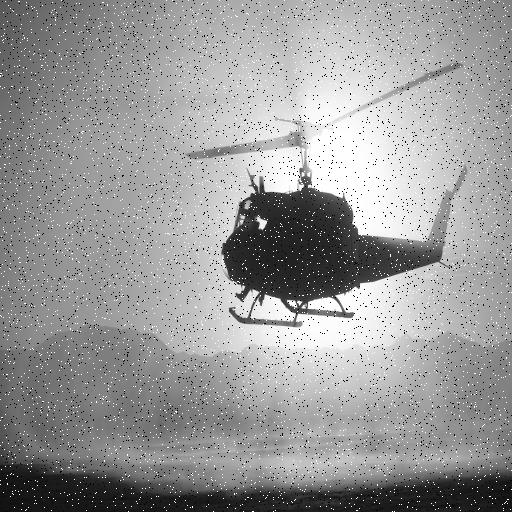helicopter: (184, 60, 471, 331)
